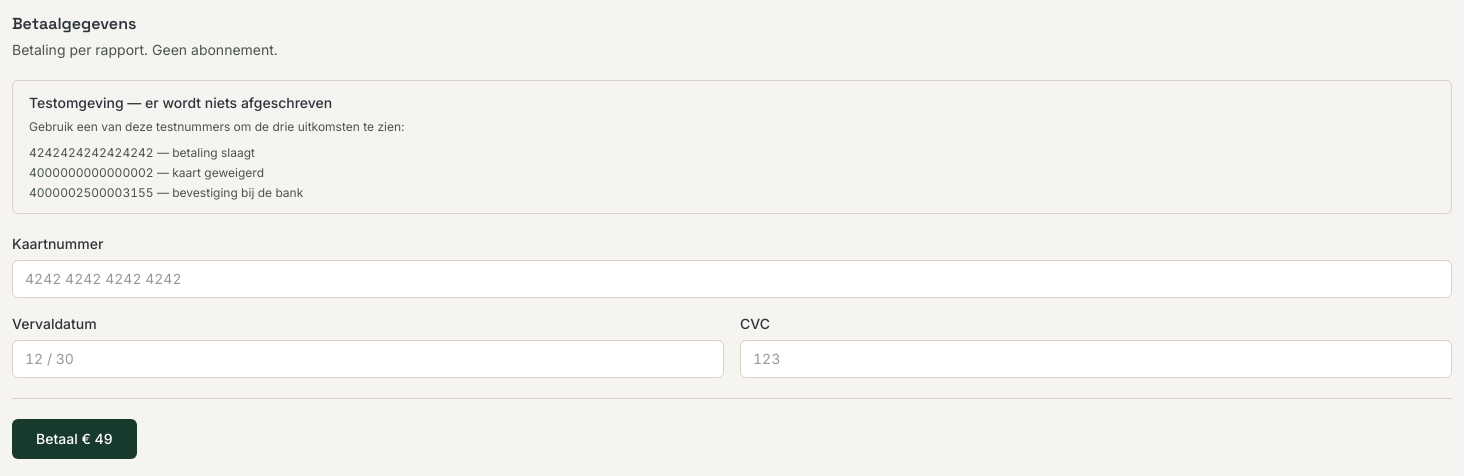
PaymentForm - paid, but the release refused › does not offer a retry, because a second attempt would fail identically
Type "4242424242424242" into the field labelled "Kaartnummer" at (732, 278), box x1=12 y1=260 x2=1452 y2=298
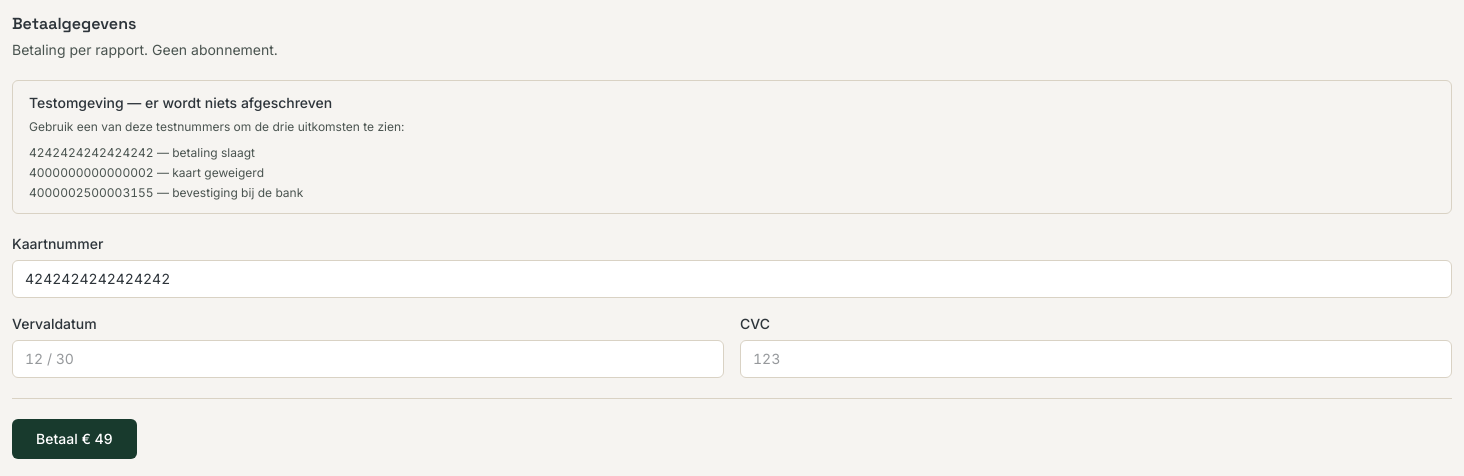
Click the button "Betaal € 49" at (74, 438), box x1=12 y1=418 x2=137 y2=458
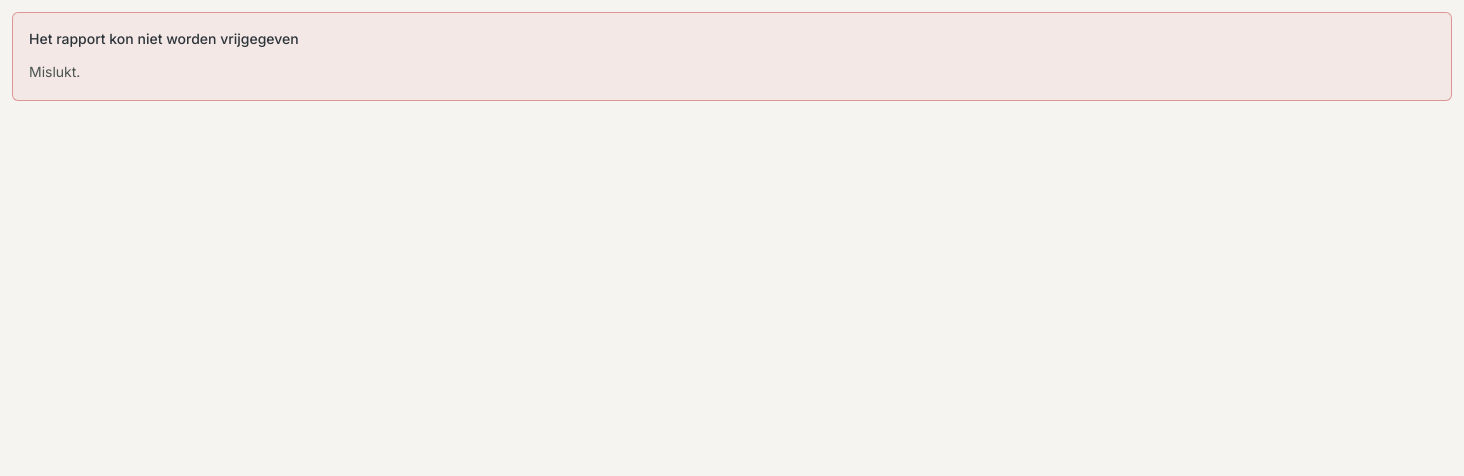
Now the text "Het rapport kon niet worden vrijgegeven" is shown, box x1=29 y1=30 x2=299 y2=47
Now the button "Betaal € 49" is gone
Now the text labelled "Kaartnummer" is gone
